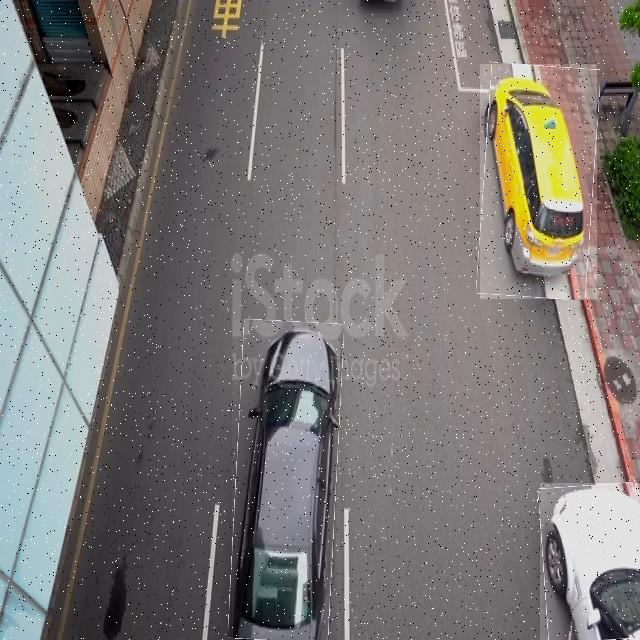Car: (232, 320, 340, 640), (480, 64, 597, 299), (540, 483, 640, 640)
